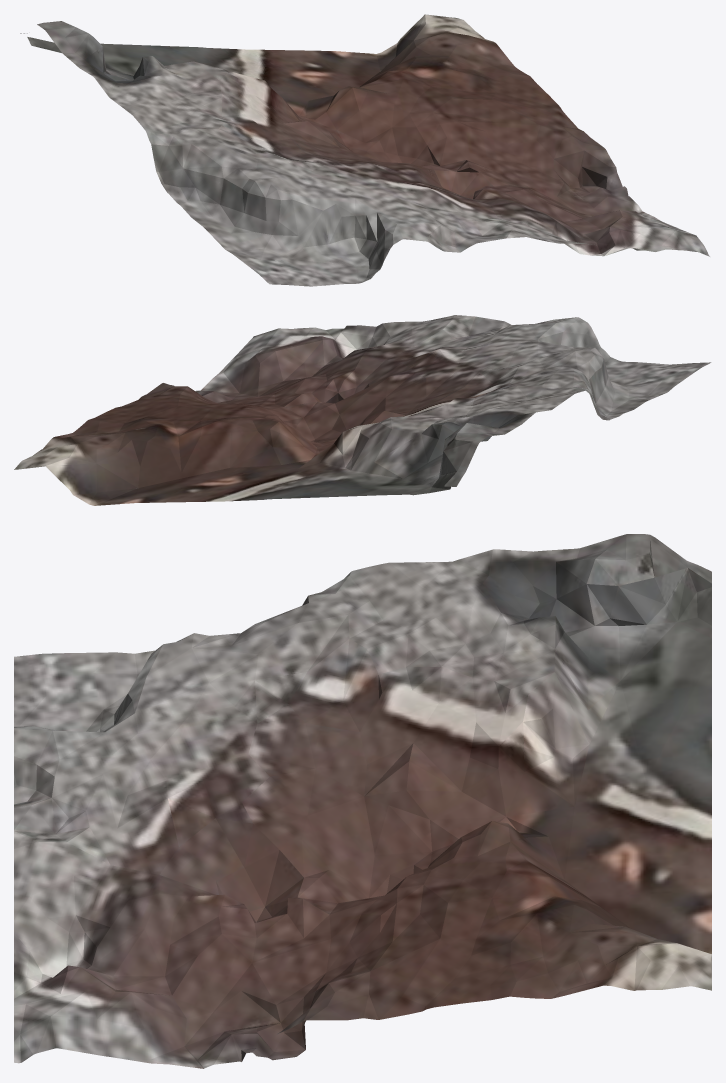
3 renders of one model, top to bottom at view 1: azimuth 30°, elevation 25°; view 2: azimuth 150°, elevation 25°; view 3: azimuth 270°, elevation 25°, orthographic. The views are drawn at different scales.
Size of the model in its own units: 0.8373 by 0.3176 by 0.8374.
3 materials, 3 textured.
